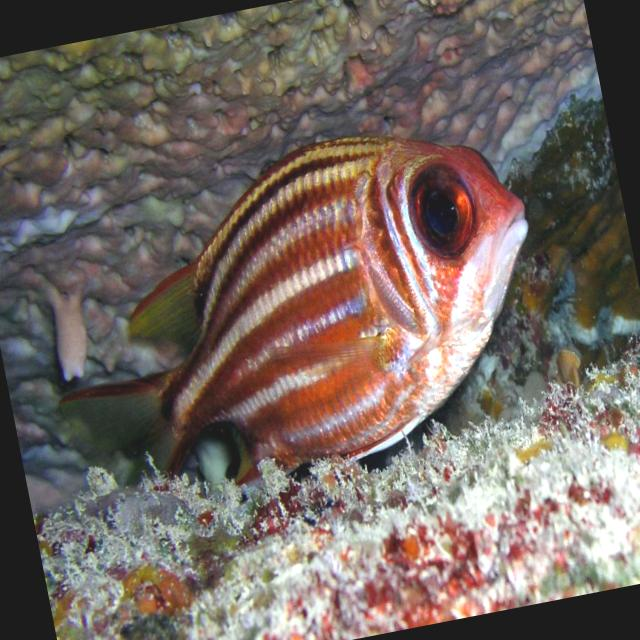Asker Baligi: (16, 100, 570, 524)
